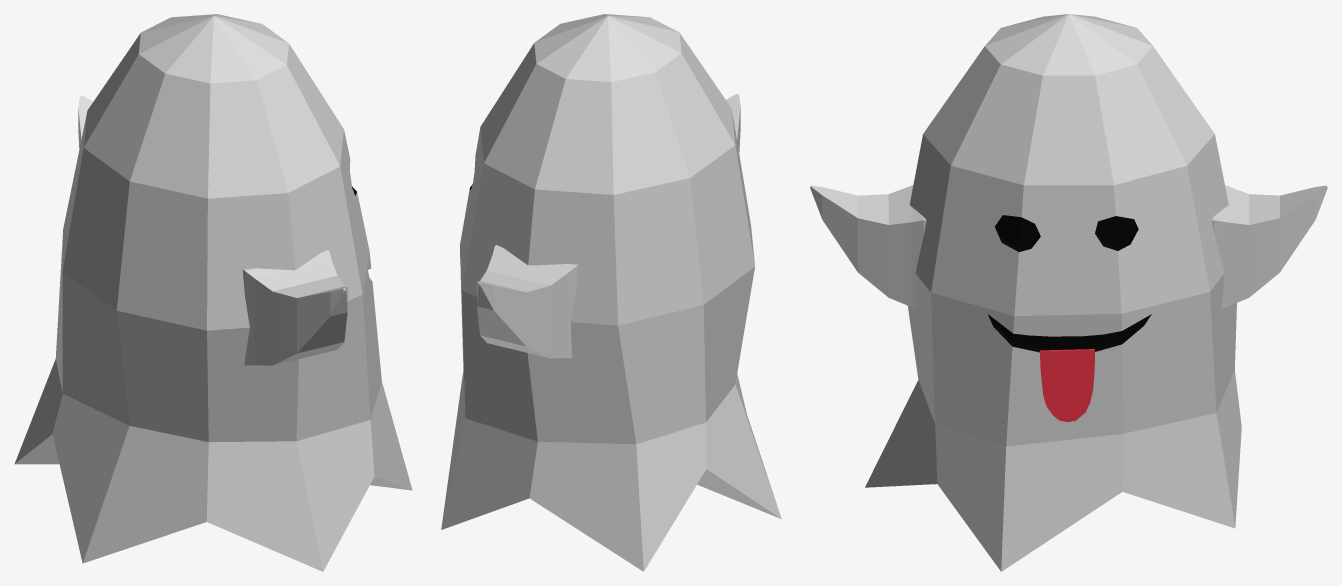
File: fantome.fbx
3 views of the same model, side by side, from view 1: azimuth 30°, elevation 25°; view 2: azimuth 150°, elevation 25°; view 3: azimuth 270°, elevation 25° (orthographic). The views are drawn at different scales.
Parts seen in each view (by area): view 1: Sphère; view 2: Sphère; view 3: Sphère.
Boxes of the visible parts, x1,y1,x2,y2 form: Sphère: [14, 14, 412, 571]; Sphère: [441, 14, 781, 571]; Sphère: [810, 14, 1327, 571].
Size of the model in its own units: 220 by 325 by 315.
